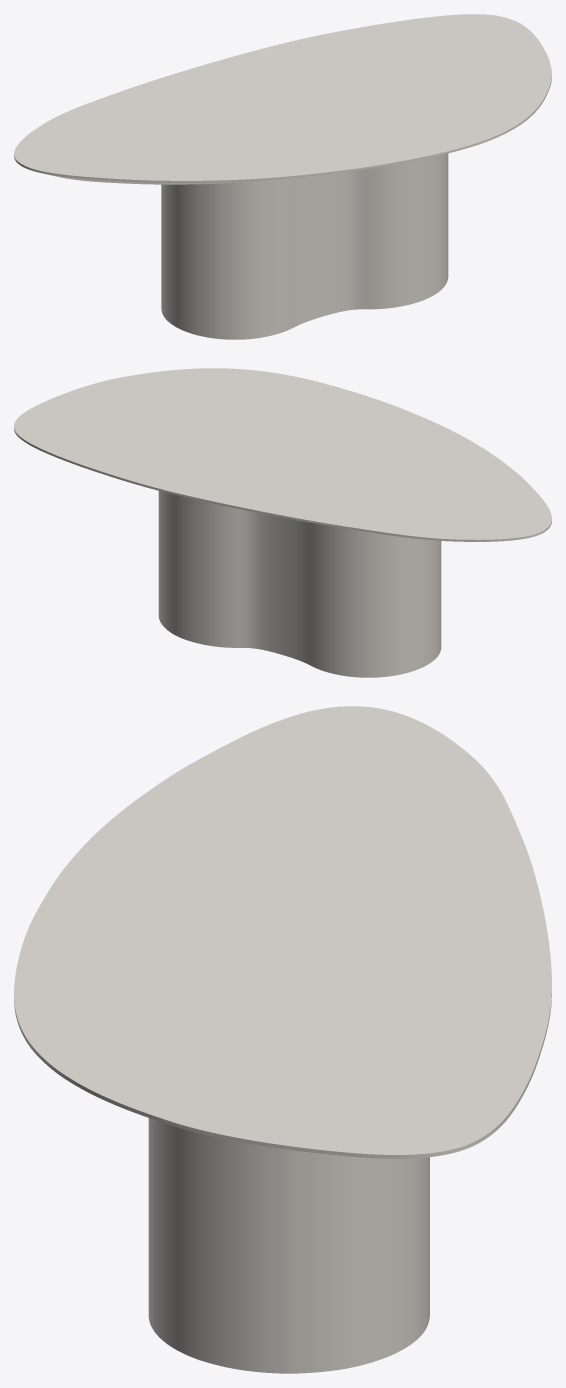
Rendered from pearlwhite_pebbletop_facet_riverwave.glb.
3 views of the same model, one above another, from view 1: azimuth 30°, elevation 25°; view 2: azimuth 150°, elevation 25°; view 3: azimuth 270°, elevation 25° (orthographic). The views are drawn at different scales.
Parts seen in each view (by area): view 1: facet_pebbletop, riverwave; view 2: facet_pebbletop, riverwave; view 3: facet_pebbletop, riverwave.
Boxes of the visible parts, x1,y1,x2,y2 form: facet_pebbletop: [14, 14, 551, 184]; riverwave: [161, 153, 448, 339]; facet_pebbletop: [14, 368, 551, 541]; riverwave: [158, 491, 441, 677]; facet_pebbletop: [14, 706, 551, 1158]; riverwave: [148, 1118, 429, 1373].
Bounding box in the file's own units: 7.5 × 2.5 × 3.8.
1 material, 1 textured.
